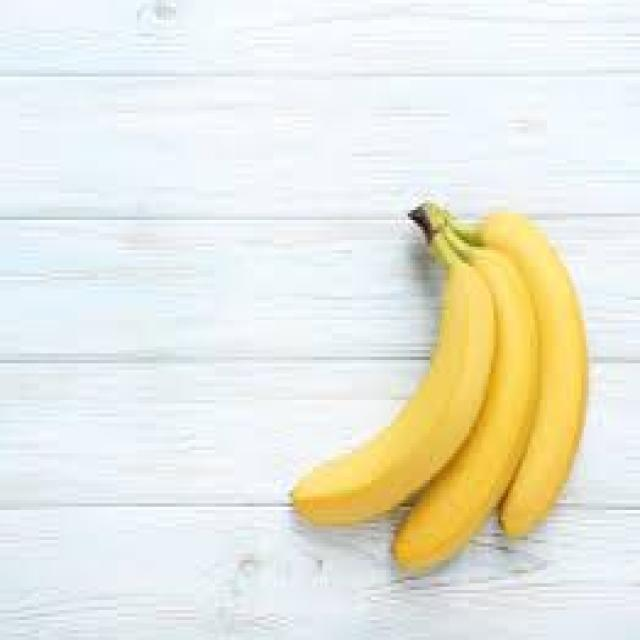banana: (288, 196, 589, 576)
